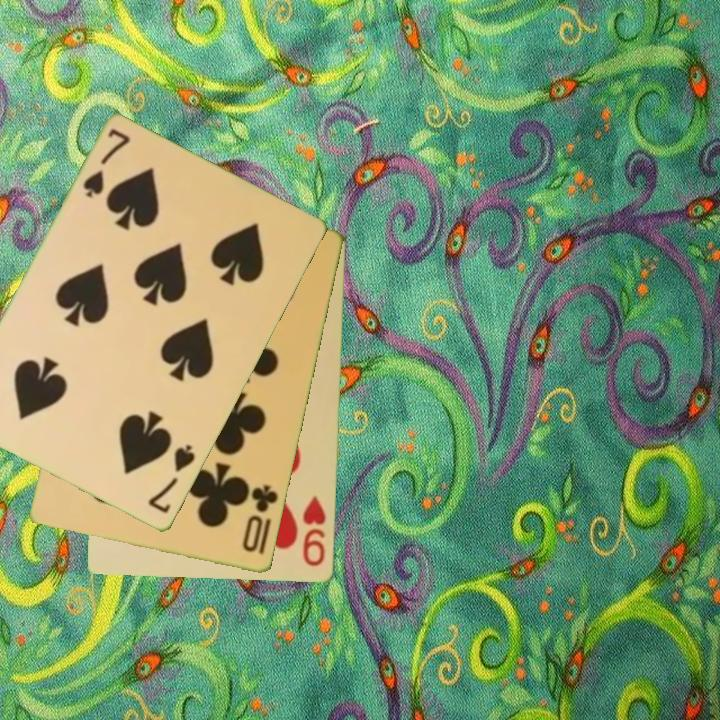10c: (239, 481, 282, 556)
7s: (79, 125, 134, 202), (144, 441, 199, 517)
9h: (299, 493, 329, 569)
